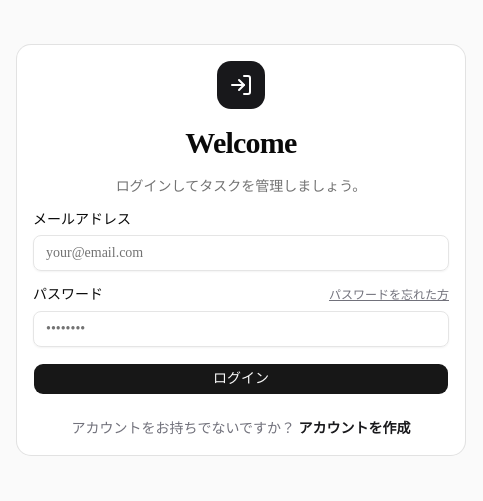
Auth Pages › LoginPage › shows validation error for invalid email
Type "invalid" into the field labelled "メールアドレス".
click(241, 253); type("invalid")  # box [33,235,449,271]
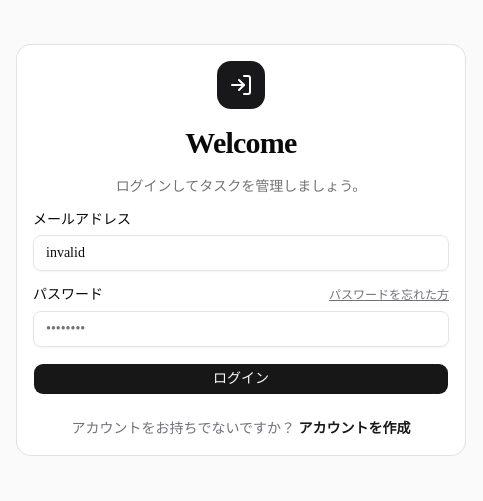
Submit the form "メールアドレス パスワード パスワードを忘れた方 ログイン", box [33,213,449,395]
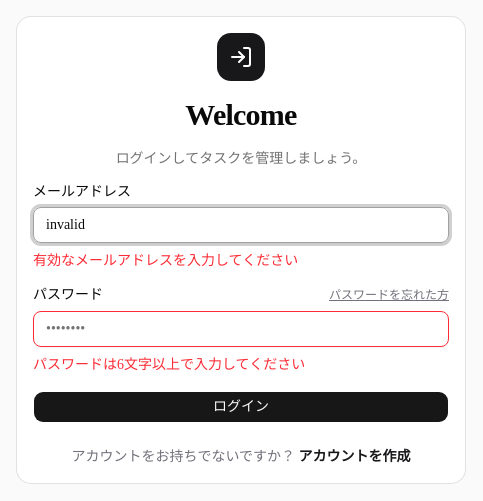
Check: the text "有効なメールアドレスを入力してください" is shown, box [33,253,298,268]
